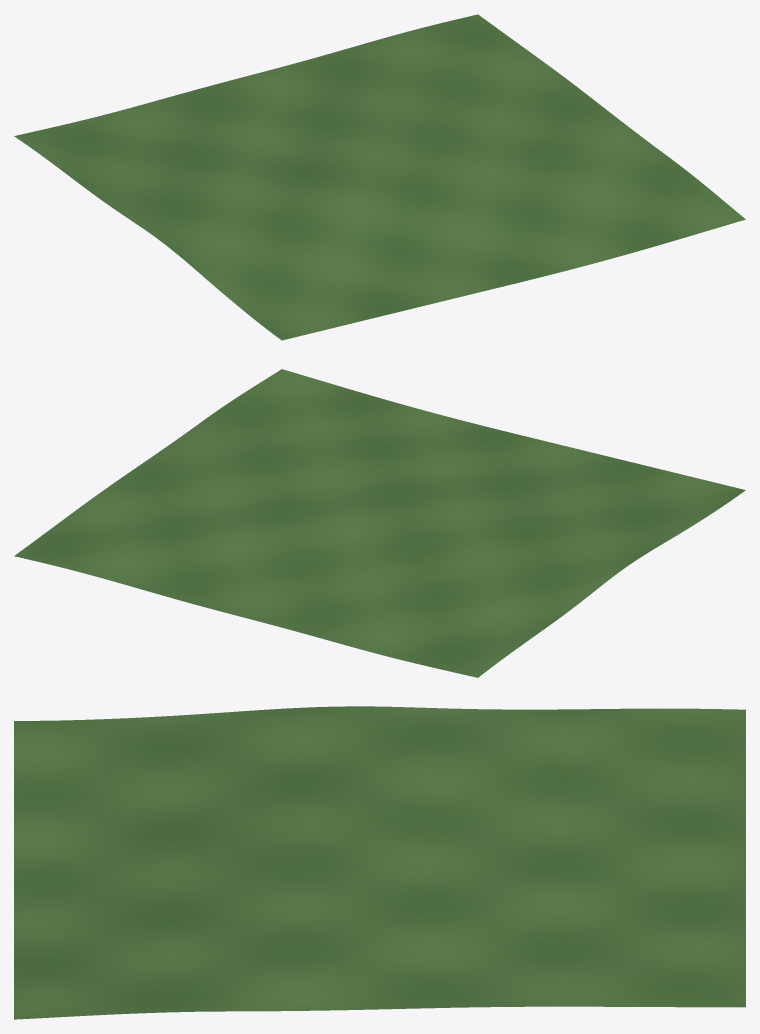
The model's file is chunk_8_4.glb.
3 views of the same model, one above another, from view 1: azimuth 30°, elevation 25°; view 2: azimuth 150°, elevation 25°; view 3: azimuth 270°, elevation 25° (orthographic). The views are drawn at different scales.
Size of the model in its own units: 512 by 18.88 by 512.
